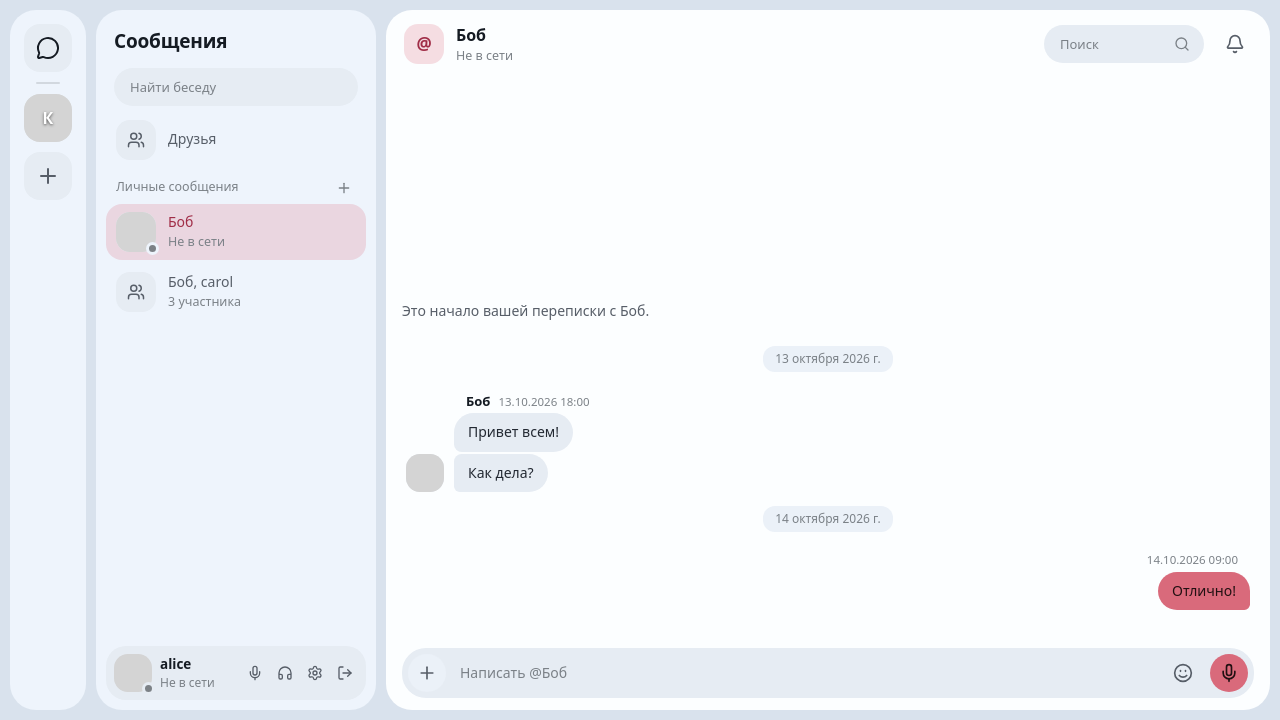
Test: searching a DM or a group › finds messages in the conversation and shows who wrote them
The width and height of the screenshot is (1280, 720).
Type "кот" into the search field labelled "Поиск". click: (1124, 44)
box: [1044,25,1204,63]
Then press Enter
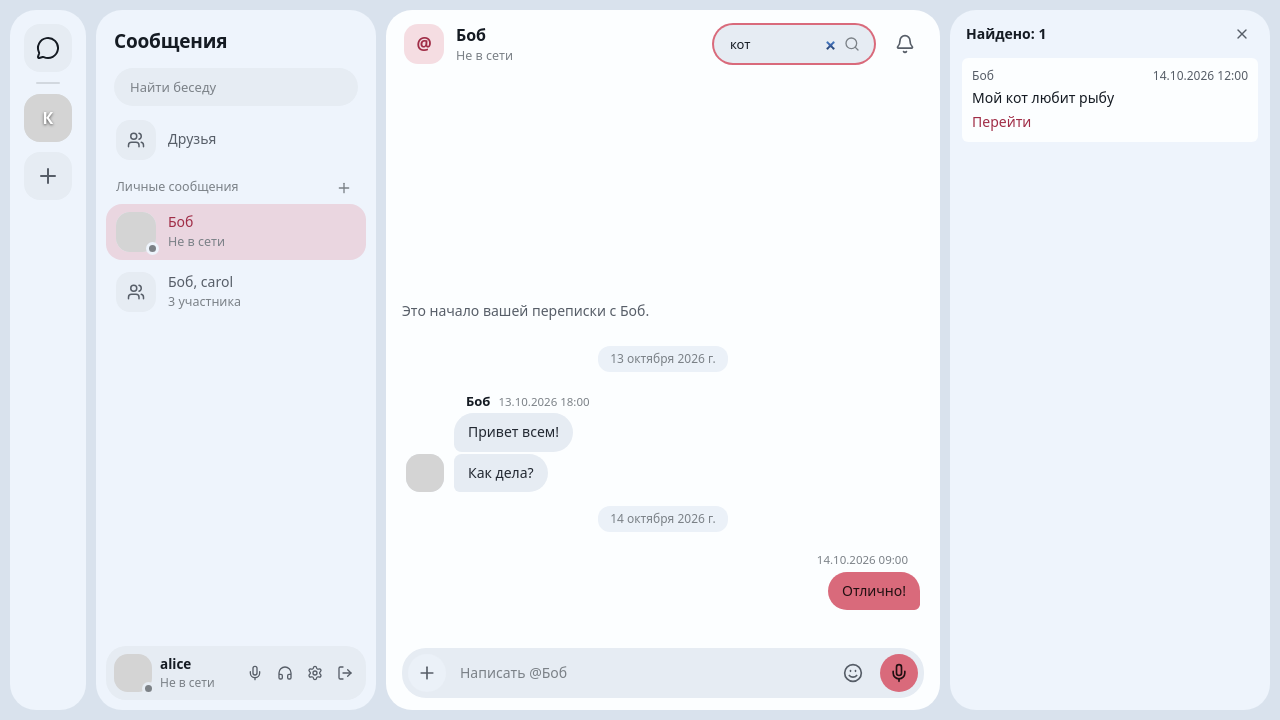
Now the heading "Найдено: 1" is shown, box [966,24,1046,44]
Now the text "Мой кот любит рыбу" is shown, box [972,88,1114,107]
Now the text "Боб" next to "14.10.2026 12:00" is shown, box [972,67,994,84]
